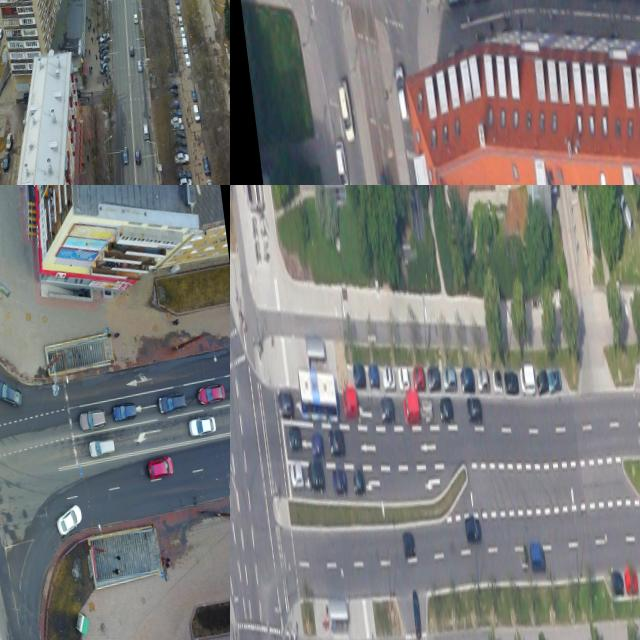UAI: (53, 503, 85, 540), (337, 79, 355, 144), (394, 65, 411, 120), (617, 190, 635, 239), (0, 374, 23, 410), (156, 390, 187, 416), (195, 383, 227, 408), (187, 414, 218, 439), (77, 407, 107, 432), (409, 588, 423, 640), (147, 455, 175, 480), (334, 139, 349, 185), (341, 384, 359, 421), (307, 458, 325, 493), (111, 401, 138, 424), (88, 438, 116, 460), (402, 391, 420, 425), (276, 386, 294, 419), (518, 361, 535, 395), (327, 428, 345, 458), (458, 363, 475, 394), (464, 516, 482, 545), (529, 541, 546, 571), (331, 467, 348, 496), (465, 395, 482, 424), (288, 459, 304, 489), (379, 396, 396, 424), (286, 424, 302, 452), (438, 396, 454, 423), (503, 369, 519, 396), (623, 567, 638, 594), (426, 366, 441, 393), (381, 364, 396, 391), (310, 432, 324, 460), (412, 364, 426, 392), (352, 469, 366, 496), (610, 569, 624, 596), (352, 362, 366, 389), (402, 531, 416, 558), (547, 367, 562, 392), (442, 365, 457, 390), (421, 397, 434, 425), (396, 363, 409, 391), (536, 368, 549, 395), (367, 362, 380, 389), (476, 367, 490, 392), (491, 367, 503, 395), (518, 547, 529, 570), (174, 151, 190, 166), (202, 154, 211, 176), (176, 169, 192, 181), (444, 0, 468, 8), (172, 129, 187, 141), (121, 146, 130, 165), (173, 137, 187, 149), (141, 122, 150, 140), (99, 53, 111, 66), (174, 145, 188, 156), (635, 358, 640, 386), (134, 148, 142, 165), (178, 176, 193, 185), (169, 99, 181, 110), (97, 42, 109, 53), (98, 32, 110, 43), (170, 108, 183, 118), (172, 123, 185, 133), (99, 62, 109, 75), (190, 86, 198, 102), (98, 48, 109, 59), (184, 53, 192, 68), (167, 80, 179, 90), (167, 89, 179, 98), (170, 116, 182, 125), (128, 44, 135, 57), (136, 59, 143, 71), (180, 26, 186, 39), (205, 177, 214, 185), (175, 4, 181, 16), (133, 13, 139, 23), (178, 16, 183, 26), (173, 0, 179, 4)
car: (296, 364, 339, 423)
harvester: (193, 103, 201, 123), (181, 37, 188, 53)
